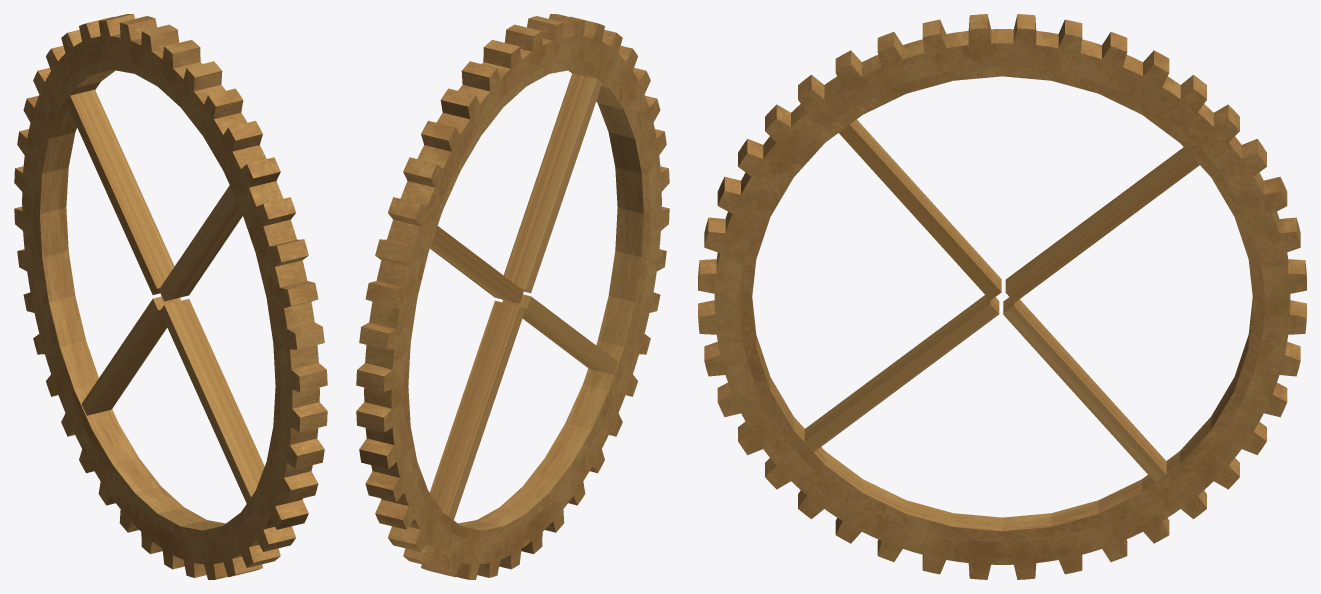
The model's file is VenusRoueSecondaire.fbx.
3 views of the same model, side by side, from view 1: azimuth 30°, elevation 25°; view 2: azimuth 150°, elevation 25°; view 3: azimuth 270°, elevation 25° (orthographic). The views are drawn at different scales.
Parts seen in each view (by area): view 1: GearPetite, Contour.003; view 2: GearPetite, Contour.003; view 3: GearPetite, Contour.003.
Boxes of the visible parts, box(x1,y1,x2,y2) form: GearPetite: box(14, 14, 327, 579); Contour.003: box(34, 59, 280, 540); GearPetite: box(356, 14, 669, 579); Contour.003: box(403, 59, 649, 540); GearPetite: box(698, 14, 1306, 579); Contour.003: box(740, 66, 1264, 541).
Bounding box in the file's own units: 5 × 89.89 × 89.89.
2 materials, 2 textured.
